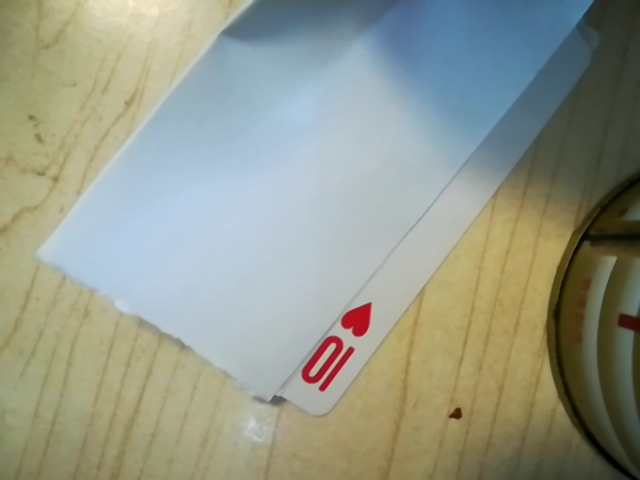hx 10: (287, 299, 377, 404)
